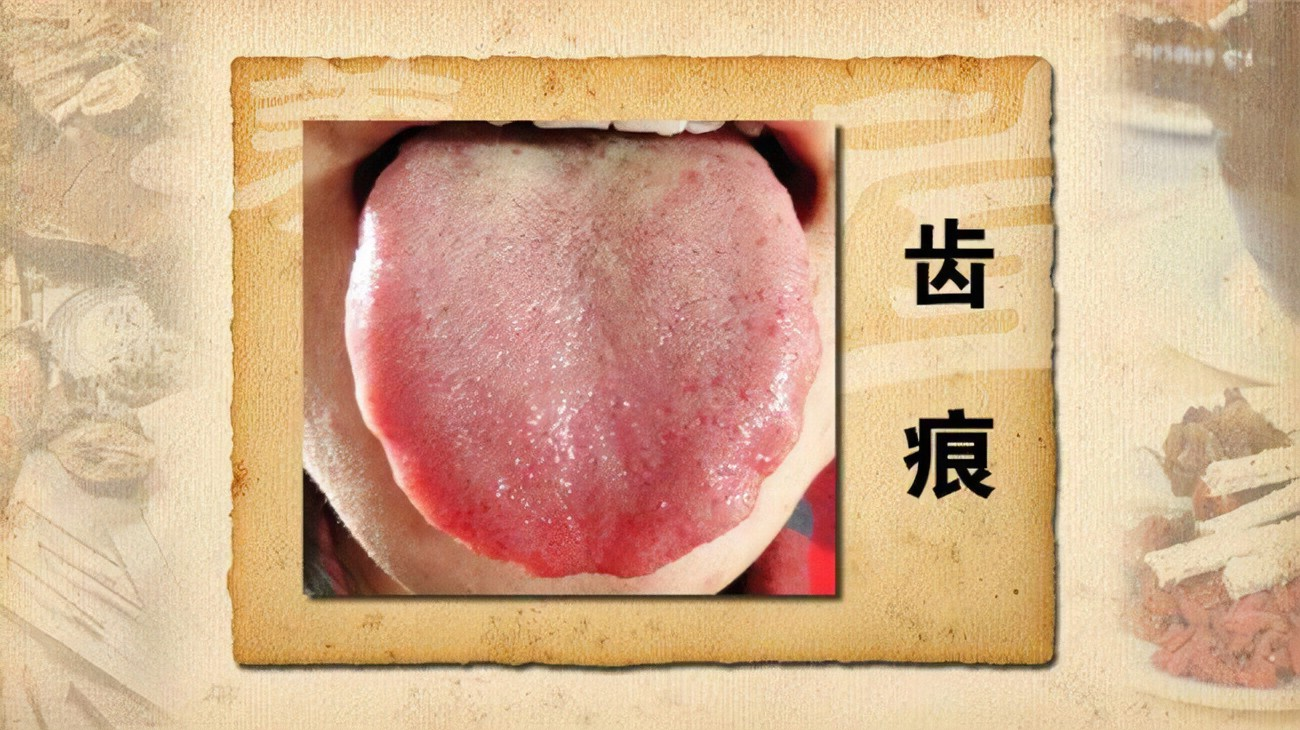baitaishe: (345, 125, 821, 577)
hongshe: (344, 124, 820, 576)
